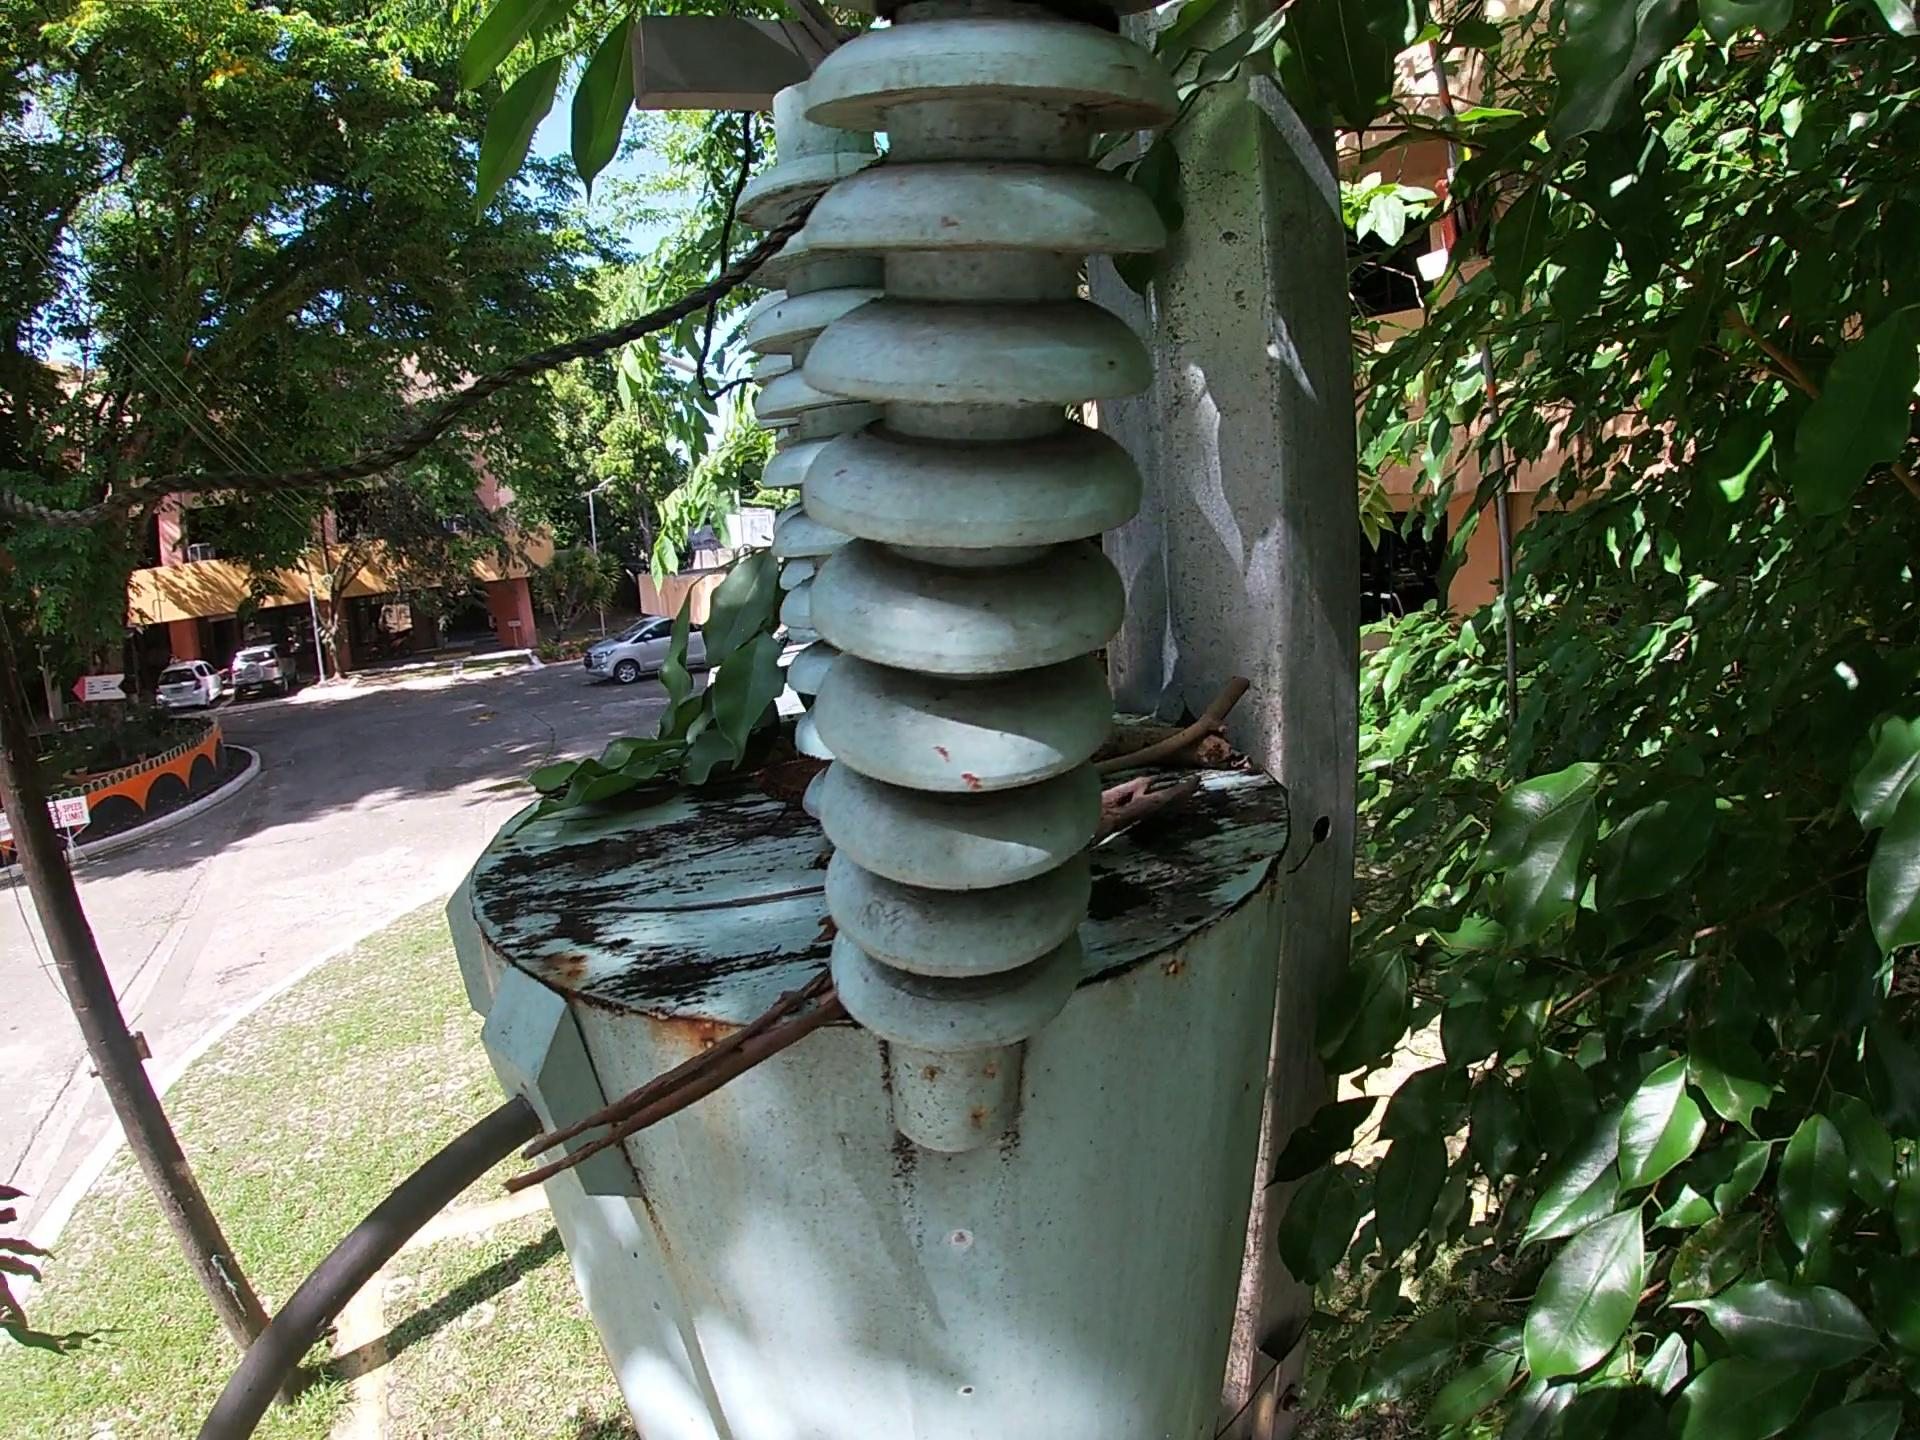branch with leaves: (485, 545, 813, 836)
mahogany fruit: (727, 768, 828, 827)
tree branch: (488, 967, 866, 1215), (1084, 682, 1282, 779), (509, 879, 842, 935), (1079, 771, 1217, 864), (1095, 715, 1240, 765), (667, 830, 798, 867)
